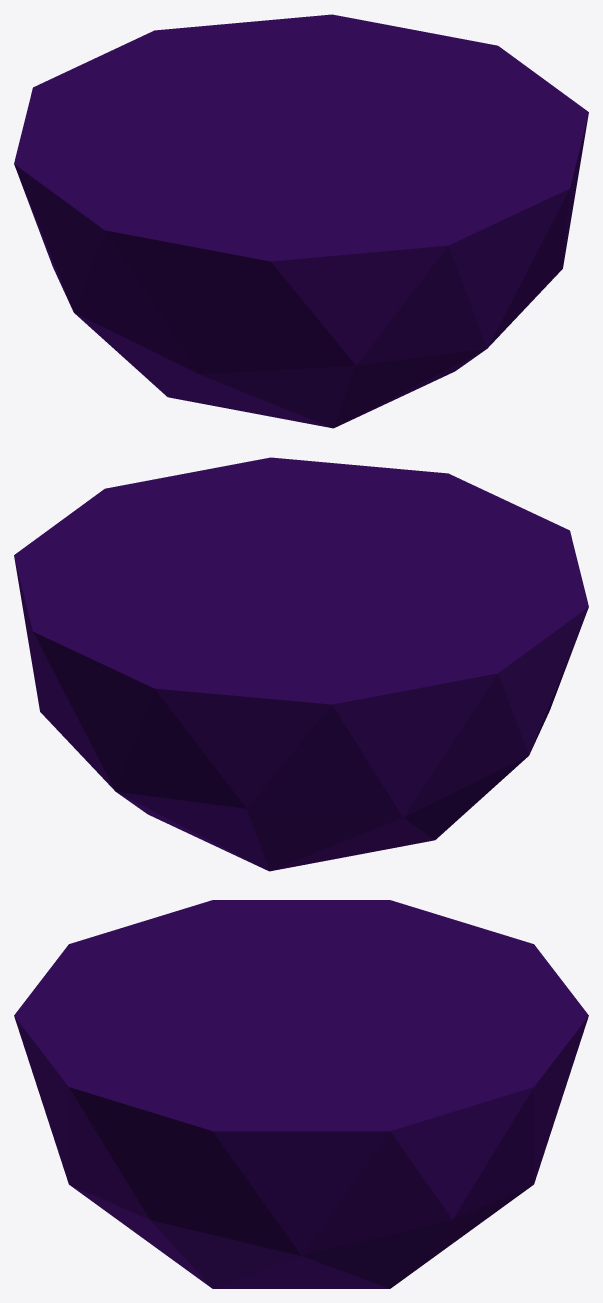
Rendered from platformv1.gltf.
The picture shows the model from 3 angles, top to bottom: view 1: azimuth 30°, elevation 25°; view 2: azimuth 150°, elevation 25°; view 3: azimuth 270°, elevation 25°; orthographic projection. The views are drawn at different scales.
Visible parts, largest first — view 1: environment-ico-platform-mesh; view 2: environment-ico-platform-mesh; view 3: environment-ico-platform-mesh.
Part boxes in pixels (x1,y1,x2,y2): environment-ico-platform-mesh: (14, 14, 588, 428); environment-ico-platform-mesh: (14, 457, 588, 871); environment-ico-platform-mesh: (14, 900, 588, 1288).
Bounding box in the file's own units: 57.06 × 30 × 60.
